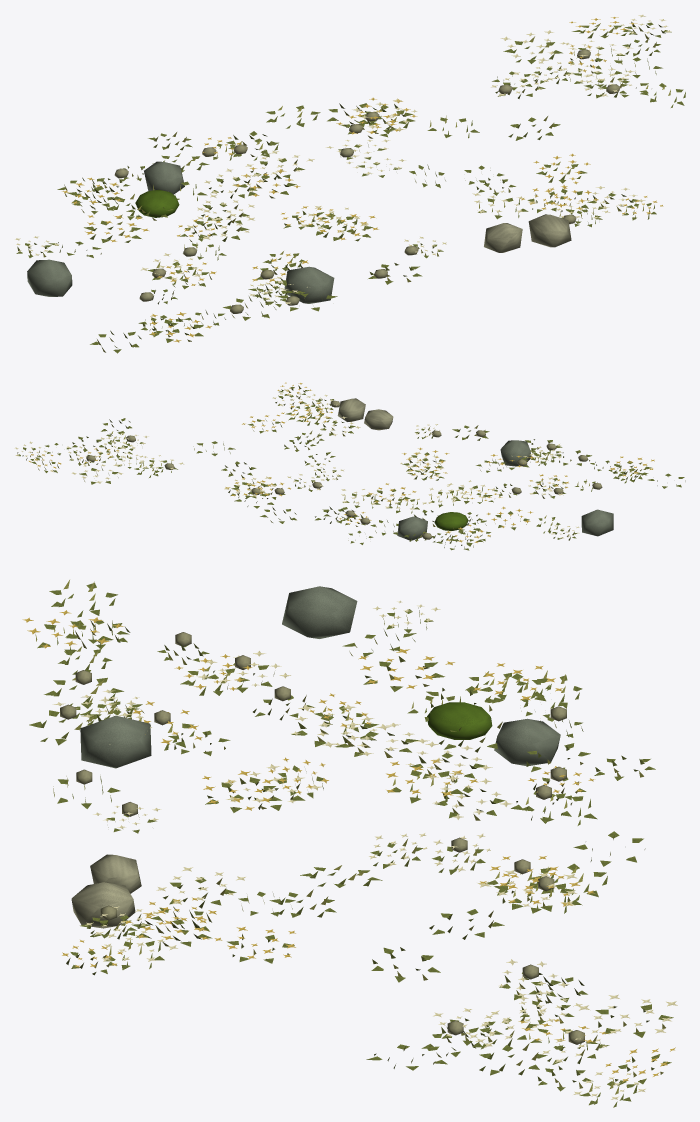
The model's file is detail-patch-05-03.fbx.
3 renders of one model, top to bottom at view 1: azimuth 30°, elevation 25°; view 2: azimuth 150°, elevation 25°; view 3: azimuth 270°, elevation 25°, orthographic. The views are drawn at different scales.
Parts seen in each view (by area): view 1: detail-patch-05-03__Geometry; view 2: detail-patch-05-03__Geometry; view 3: detail-patch-05-03__Geometry.
Part boxes in pixels (x1,y1,x2,y2): detail-patch-05-03__Geometry: [15, 14, 685, 353]; detail-patch-05-03__Geometry: [14, 382, 685, 550]; detail-patch-05-03__Geometry: [22, 580, 677, 1107].
Bounding box in the file's own units: 9.74 × 0.4579 × 5.15.
1 material, 1 textured.
